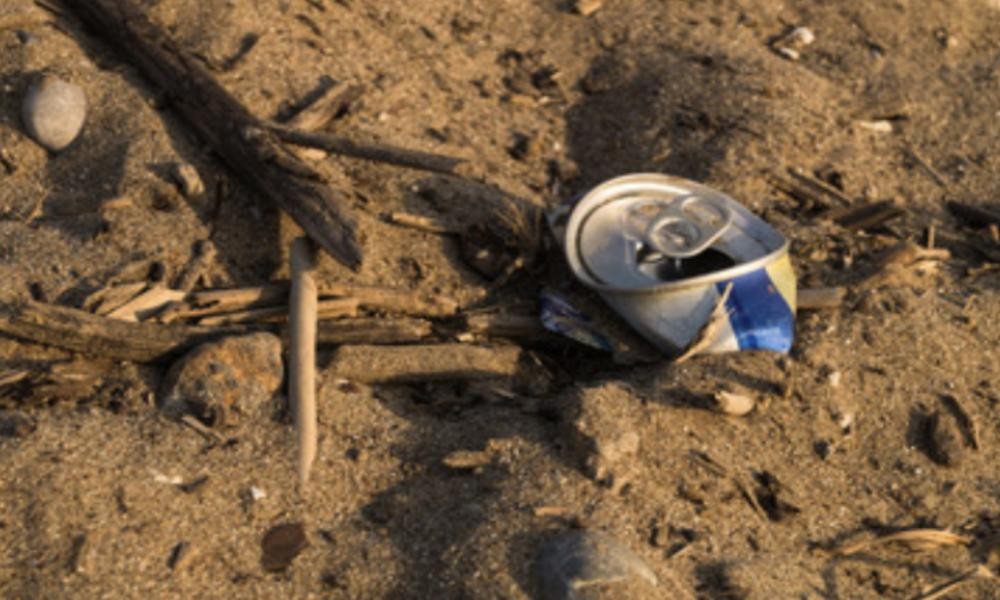can: (566, 170, 798, 360)
